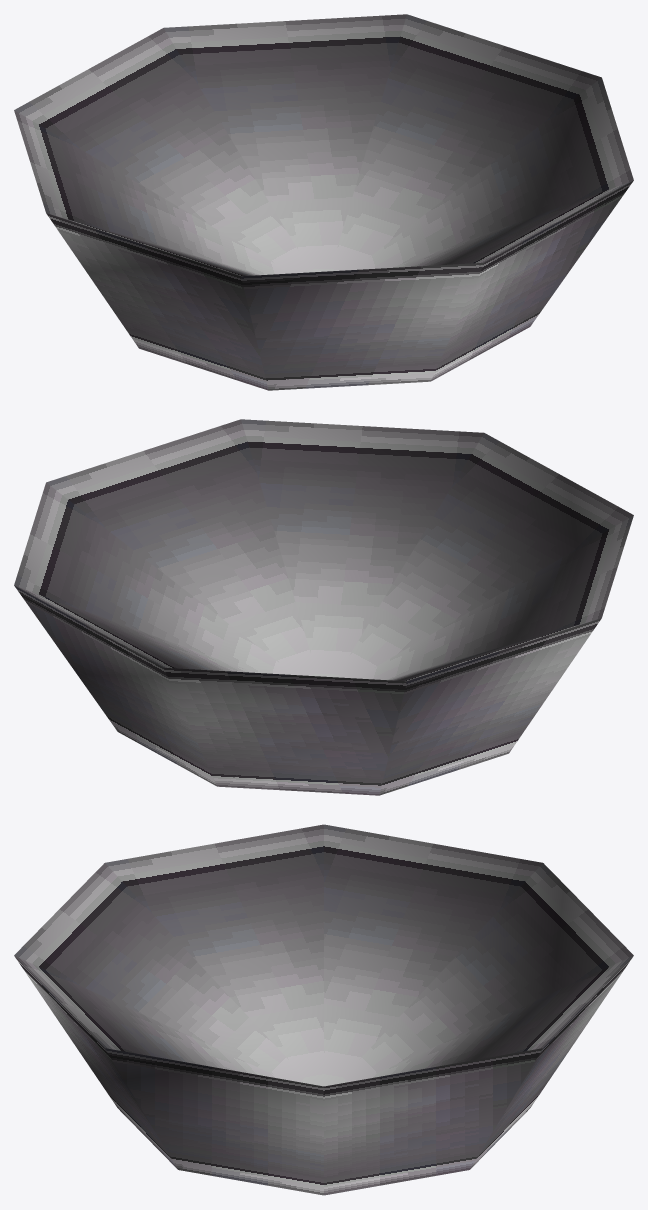
File: bowl.obj
3 views of the same model, one above another, from view 1: azimuth 30°, elevation 25°; view 2: azimuth 150°, elevation 25°; view 3: azimuth 270°, elevation 25° (orthographic). The views are drawn at different scales.
Visible parts, largest first — view 1: bowl.m2; view 2: bowl.m2; view 3: bowl.m2.
Boxes of the visible parts, x1,y1,x2,y2 form: bowl.m2: [14, 14, 633, 390]; bowl.m2: [14, 419, 633, 795]; bowl.m2: [14, 824, 633, 1195].
Size of the model in its own units: 0.4974 by 0.1353 by 0.4974.
1 material, 1 textured.
